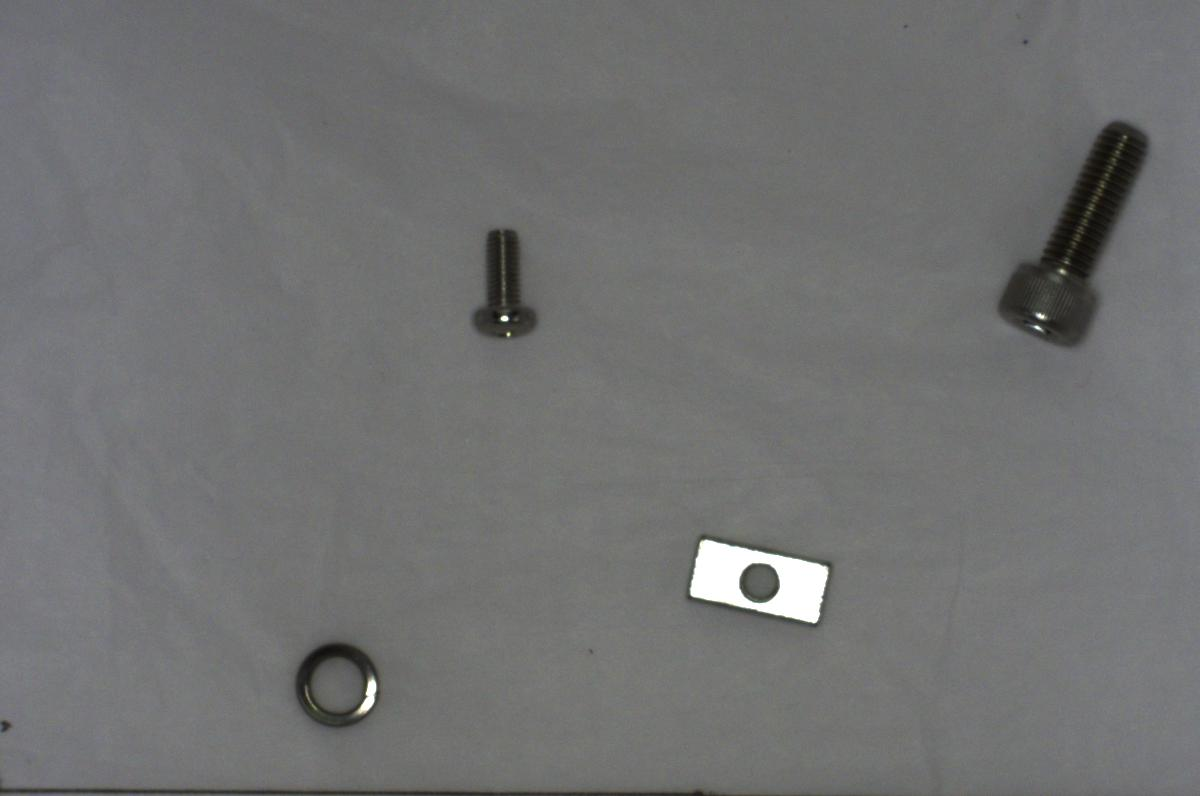Hexagon screw: (993, 109, 1153, 360)
Rectangular nut: (675, 533, 835, 627)
Round head screw: (468, 220, 538, 341)
Spring washer: (287, 633, 384, 730)
